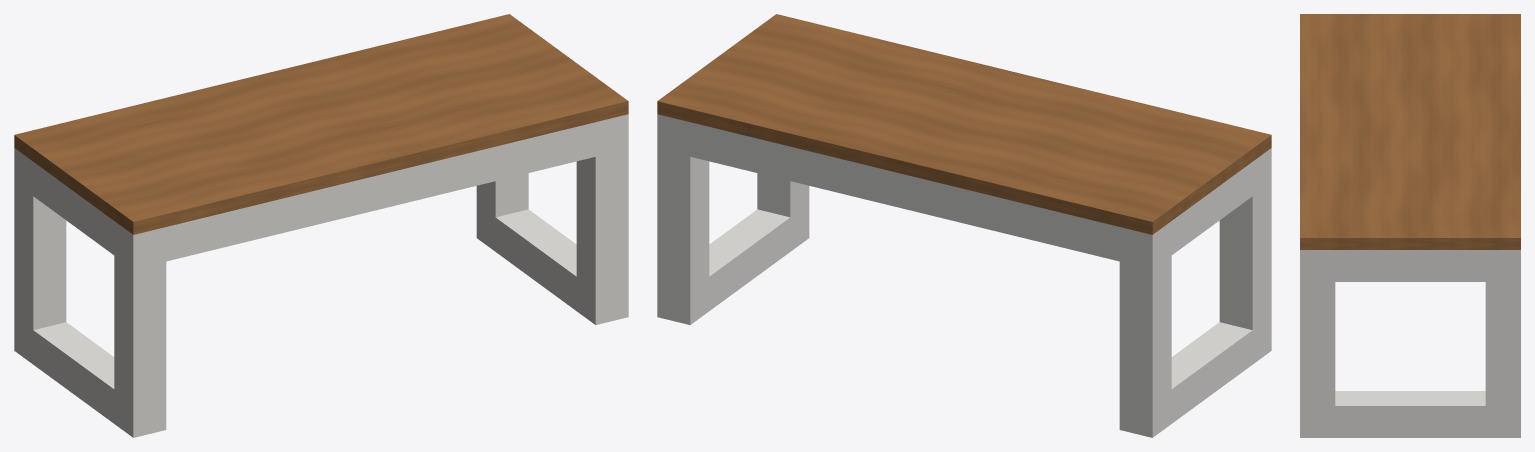
File: mesa-living-nord-roble-blanco-8cm.glb
The picture shows the model from 3 angles, left to right: view 1: azimuth 30°, elevation 25°; view 2: azimuth 150°, elevation 25°; view 3: azimuth 270°, elevation 25°; orthographic projection. The views are drawn at different scales.
Parts seen in each view (by area): view 1: Tapa de madera maciza 120 x 50 cm, Pata recta de hierro 8 x 8 cm (×4), Larguero longitudinal superior recto, Travesaño inferior recto (×2), Travesaño superior recto; view 2: Tapa de madera maciza 120 x 50 cm, Pata recta de hierro 8 x 8 cm (×4), Larguero longitudinal superior recto, Travesaño inferior recto (×2), Travesaño superior recto; view 3: Tapa de madera maciza 120 x 50 cm, Pata recta de hierro 8 x 8 cm (×2), Travesaño inferior recto, Travesaño superior recto.
Part boxes in pixels (bbox=[...]): Tapa de madera maciza 120 x 50 cm: bbox=[14, 14, 628, 234]; Pata recta de hierro 8 x 8 cm (×4): bbox=[14, 114, 628, 437]; Larguero longitudinal superior recto: bbox=[166, 122, 595, 261]; Travesaño inferior recto (×2): bbox=[24, 209, 585, 429]; Travesaño superior recto: bbox=[24, 156, 123, 261]; Tapa de madera maciza 120 x 50 cm: bbox=[657, 14, 1271, 234]; Pata recta de hierro 8 x 8 cm (×4): bbox=[657, 114, 1271, 437]; Larguero longitudinal superior recto: bbox=[690, 122, 1119, 261]; Travesaño inferior recto (×2): bbox=[700, 209, 1261, 430]; Travesaño superior recto: bbox=[1162, 155, 1261, 262]; Tapa de madera maciza 120 x 50 cm: bbox=[1300, 14, 1520, 249]; Pata recta de hierro 8 x 8 cm (×2): bbox=[1300, 250, 1520, 437]; Travesaño inferior recto: bbox=[1318, 391, 1502, 437]; Travesaño superior recto: bbox=[1317, 250, 1503, 281].
Bounding box in the file's own units: 1.2 × 0.5 × 0.5.
2 materials, 1 textured.
